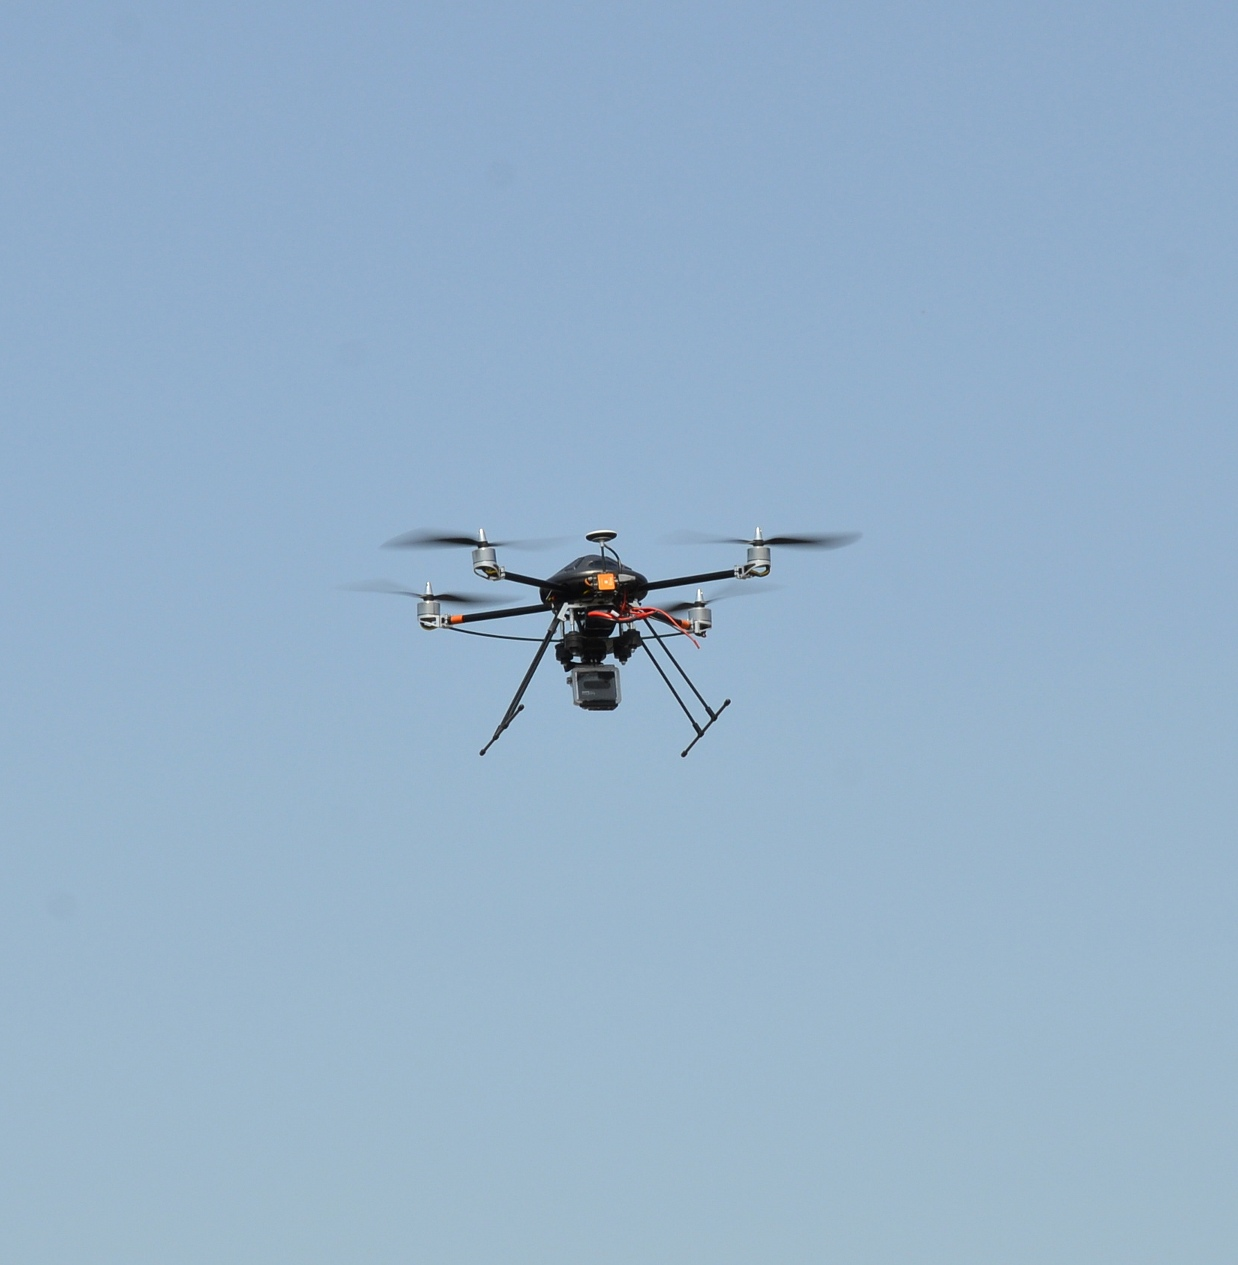drone: (323, 513, 877, 761)
